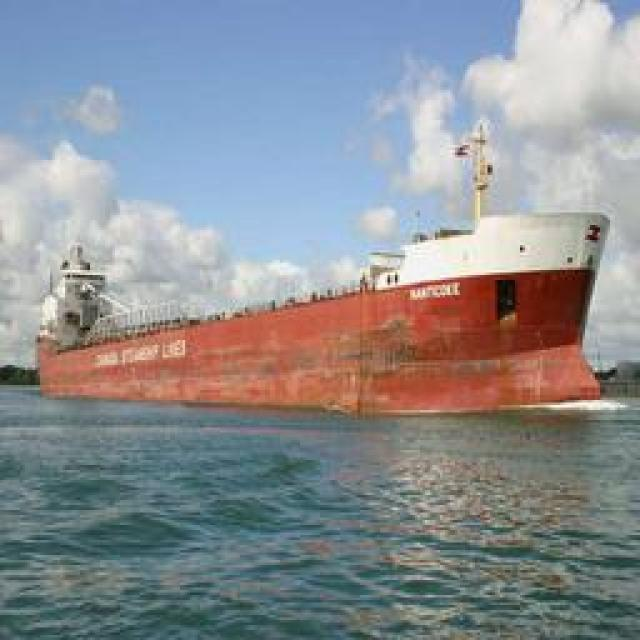ship2: (35, 118, 611, 419)
